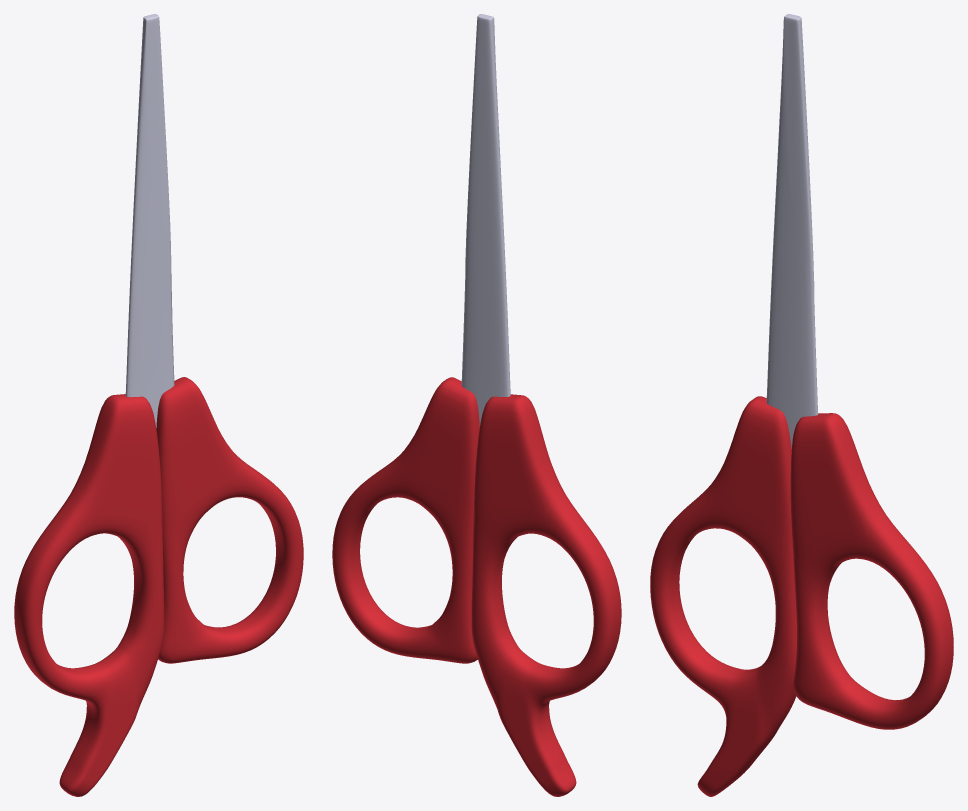
The model's file is SCISSORS.fbx.
The picture shows the model from 3 angles, left to right: view 1: azimuth 30°, elevation 25°; view 2: azimuth 150°, elevation 25°; view 3: azimuth 330°, elevation 25°; orthographic projection. The views are drawn at different scales.
Parts seen in each view (by area): view 1: Circle.002; view 2: Circle.002; view 3: Circle.002.
Part boxes in pixels (box(x1,y1,x2,y2)): Circle.002: box(14, 14, 303, 796); Circle.002: box(332, 14, 621, 796); Circle.002: box(650, 14, 953, 796).
Bounding box in the file's own units: 61.64 × 160 × 6.63.
